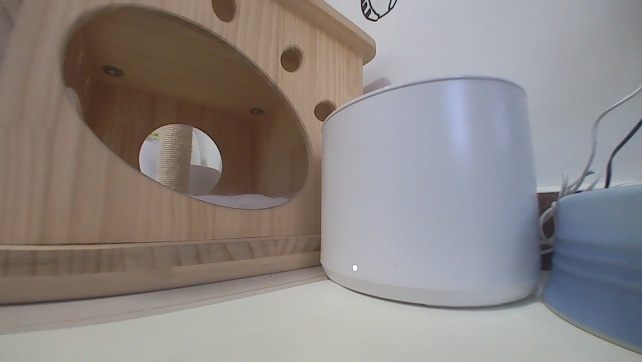wire: (536, 81, 641, 259), (358, 0, 397, 22)
